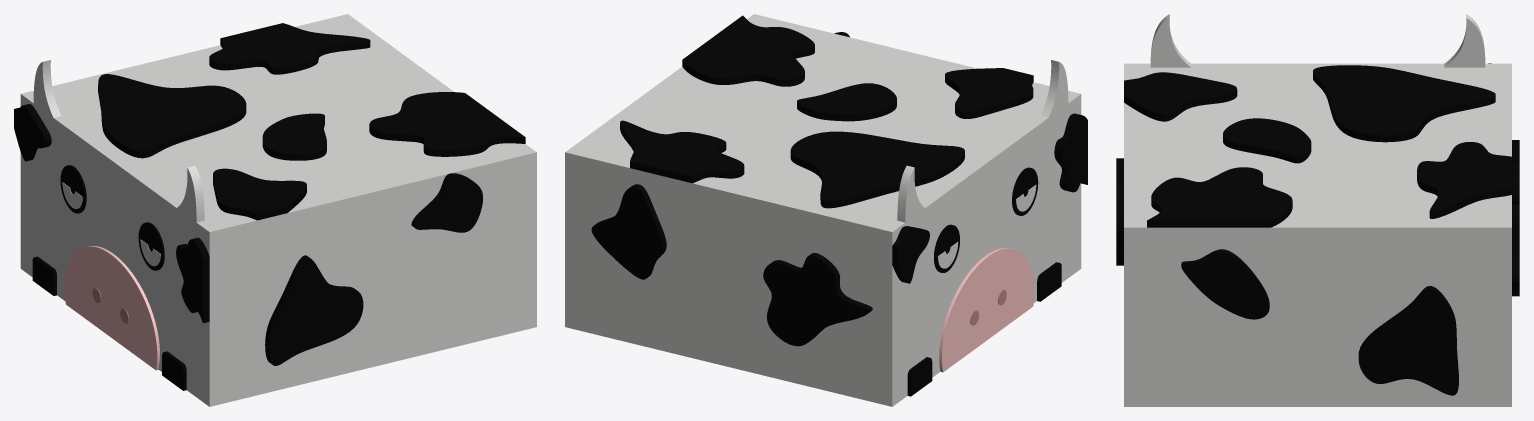
File: cow.fbx
3 views of the same model, side by side, from view 1: azimuth 30°, elevation 25°; view 2: azimuth 150°, elevation 25°; view 3: azimuth 270°, elevation 25° (orthographic). The views are drawn at different scales.
Visible parts, largest first — view 1: white, black, pink; view 2: white, black, pink; view 3: white, black.
Part boxes in pixels (x1=…): white: x1=20, y1=14, x2=536, y2=406; black: x1=14, y1=23, x2=525, y2=390; pink: x1=64, y1=245, x2=159, y2=370; white: x1=565, y1=14, x2=1081, y2=406; black: x1=591, y1=15, x2=1087, y2=396; pink: x1=939, y1=248, x2=1034, y2=372; white: x1=1124, y1=14, x2=1511, y2=406; black: x1=1116, y1=63, x2=1519, y2=395.
Bounding box in the file's own units: 3056 × 1915 × 3056.
